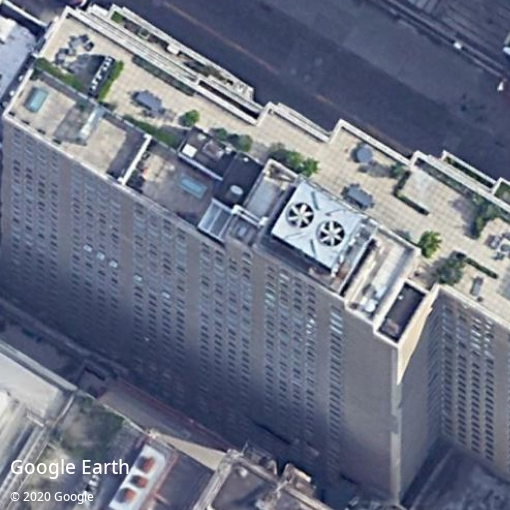Vent: (318, 220, 345, 247), (288, 202, 314, 228)
